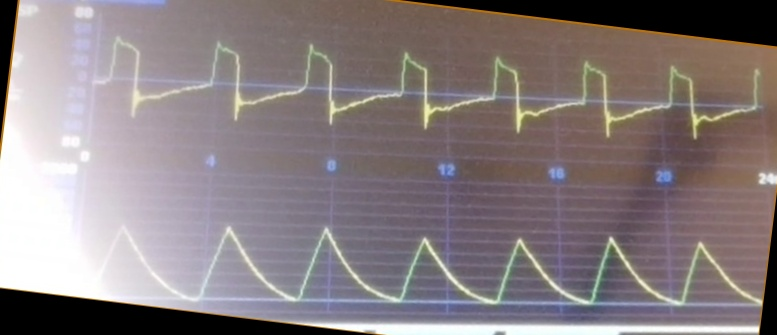Premature_cycling Flow: (98, 33, 764, 141)
Premature_cycling Volume: (95, 218, 758, 308)
